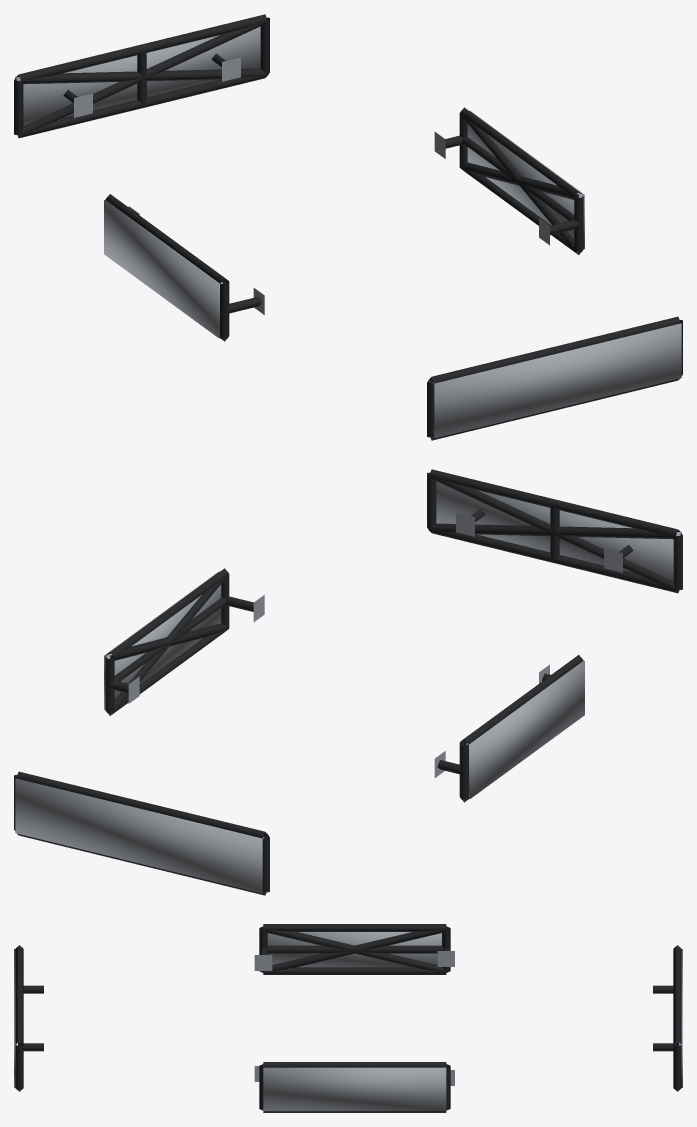
The model's file is kanaya_trilha_protecao.glb.
3 renders of one model, top to bottom at view 1: azimuth 30°, elevation 25°; view 2: azimuth 150°, elevation 25°; view 3: azimuth 270°, elevation 25°, orthographic. The views are drawn at different scales.
Parts seen in each view (by area): view 1: Protection_front_Level3_Details, Protection_rear_Level1_Details, Protection_left_Level3_Details, Protection_rear_Level3_Details, Protection_rear_Level2_Details, Protection_right_Level1_Details, Protection_front_Level1_Details, Protection_right_Level2_Details, Protection_right_Level3_Details, Protection_left_Level1_Details; view 2: Protection_rear_Level3_Details, Protection_front_Level1_Details, Protection_left_Level3_Details, Protection_front_Level3_Details, Protection_front_Level2_Details, Protection_right_Level1_Details, Protection_rear_Level1_Details, Protection_right_Level2_Details, Protection_right_Level3_Details, Protection_left_Level1_Details; view 3: Protection_right_Level3_Details, Protection_left_Level2_Details, Protection_left_Level1_Details, Protection_left_Level3_Details, Protection_right_Level1_Details, Protection_rear_Level1_Details, Protection_front_Level1_Details.
Boxes of the visible parts, bbox=[...] form: Protection_front_Level3_Details: bbox=[432, 323, 681, 438]; Protection_rear_Level1_Details: bbox=[14, 14, 269, 138]; Protection_left_Level3_Details: bbox=[104, 200, 222, 338]; Protection_rear_Level3_Details: bbox=[15, 26, 260, 126]; Protection_rear_Level2_Details: bbox=[16, 21, 267, 137]; Protection_right_Level1_Details: bbox=[434, 107, 583, 254]; Protection_front_Level1_Details: bbox=[427, 316, 682, 440]; Protection_right_Level2_Details: bbox=[460, 114, 582, 254]; Protection_right_Level3_Details: bbox=[467, 111, 584, 248]; Protection_left_Level1_Details: bbox=[105, 194, 264, 341]; Protection_rear_Level3_Details: bbox=[15, 778, 264, 893]; Protection_front_Level1_Details: bbox=[427, 469, 682, 593]; Protection_left_Level3_Details: bbox=[466, 660, 584, 798]; Protection_front_Level3_Details: bbox=[436, 481, 681, 581]; Protection_front_Level2_Details: bbox=[429, 476, 680, 592]; Protection_right_Level1_Details: bbox=[105, 568, 264, 715]; Protection_rear_Level1_Details: bbox=[14, 771, 269, 895]; Protection_right_Level2_Details: bbox=[106, 575, 228, 715]; Protection_right_Level3_Details: bbox=[104, 571, 221, 709]; Protection_left_Level1_Details: bbox=[434, 655, 583, 802]; Protection_right_Level3_Details: bbox=[263, 1067, 446, 1111]; Protection_left_Level2_Details: bbox=[263, 928, 446, 972]; Protection_left_Level1_Details: bbox=[254, 924, 454, 974]; Protection_left_Level3_Details: bbox=[267, 932, 441, 967]; Protection_right_Level1_Details: bbox=[254, 1062, 454, 1112]; Protection_rear_Level1_Details: bbox=[653, 945, 681, 1091]; Protection_front_Level1_Details: bbox=[15, 945, 43, 1091].
Size of the model in its own units: 2.12 by 0.354 by 4.21.
1 material, 1 textured.
